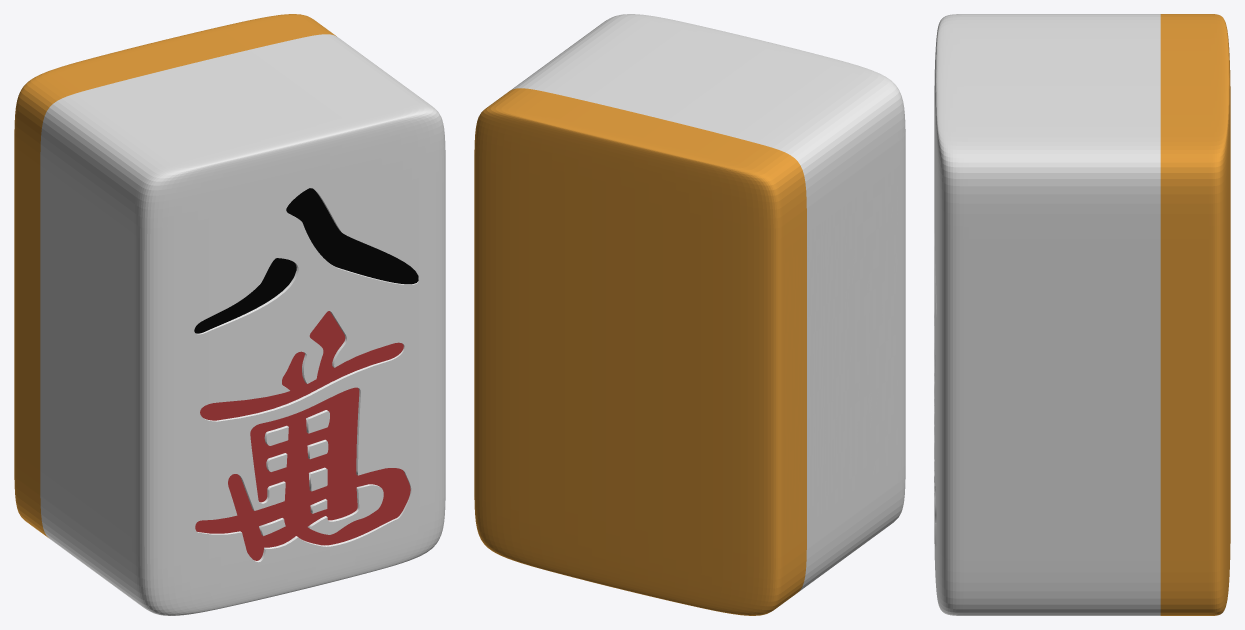
Rendered from Man8.fbx.
The picture shows the model from 3 angles, left to right: view 1: azimuth 30°, elevation 25°; view 2: azimuth 150°, elevation 25°; view 3: azimuth 270°, elevation 25°; orthographic projection. The views are drawn at different scales.
Parts seen in each view (by area): view 1: Man8; view 2: Man8; view 3: Man8.
Part boxes in pixels (x1,y1,x2,y2): Man8: (14, 14, 445, 615); Man8: (474, 14, 905, 615); Man8: (934, 14, 1230, 615).
Bounding box in the file's own units: 2 × 2.8 × 1.59.
